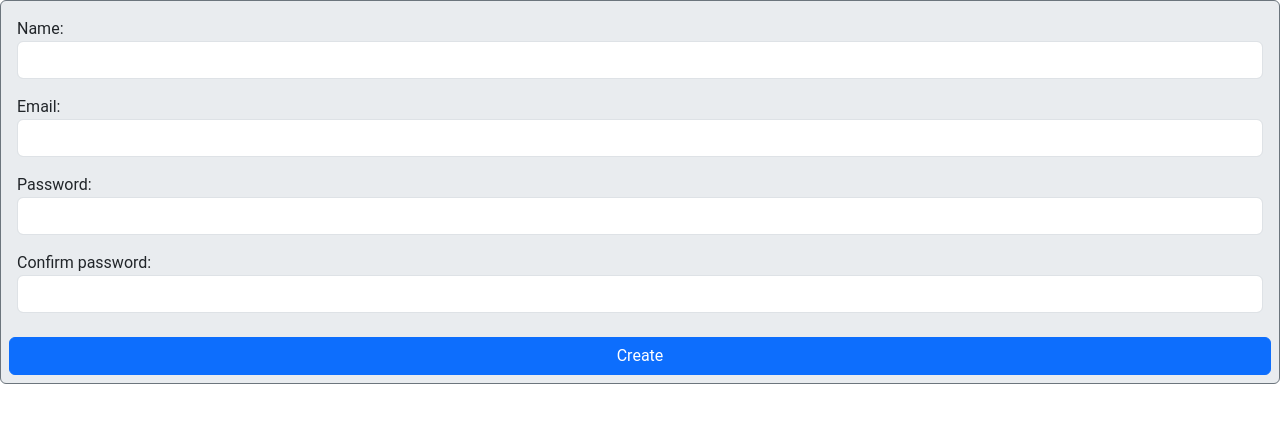
SignupForm › displays error message on password mismatch
Type "password123" into the password field labelled "Password:". click: (640, 216)
box: [17,197,1263,235]
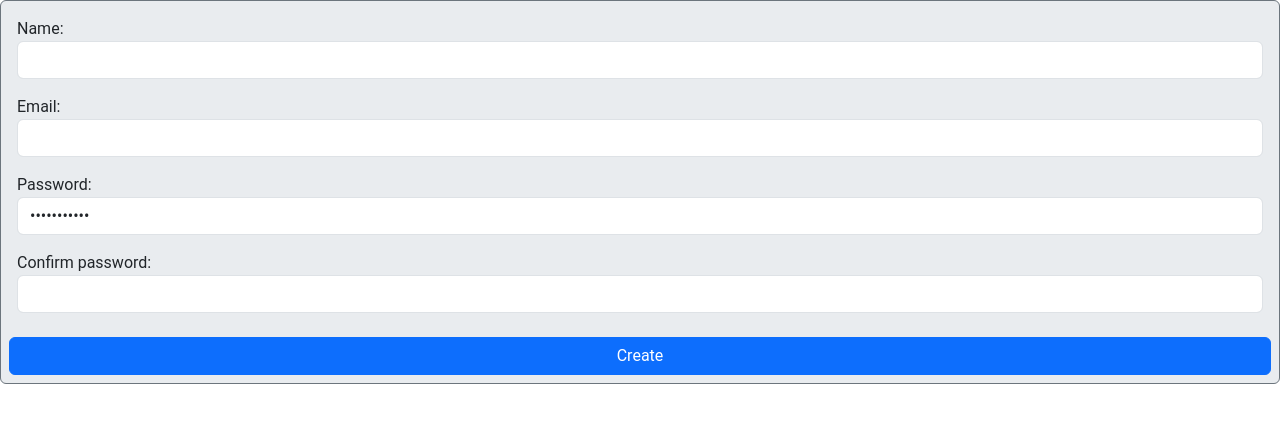
Type "password456" into the password field labelled "Confirm password:". click: (640, 294)
box: [17,275,1263,313]
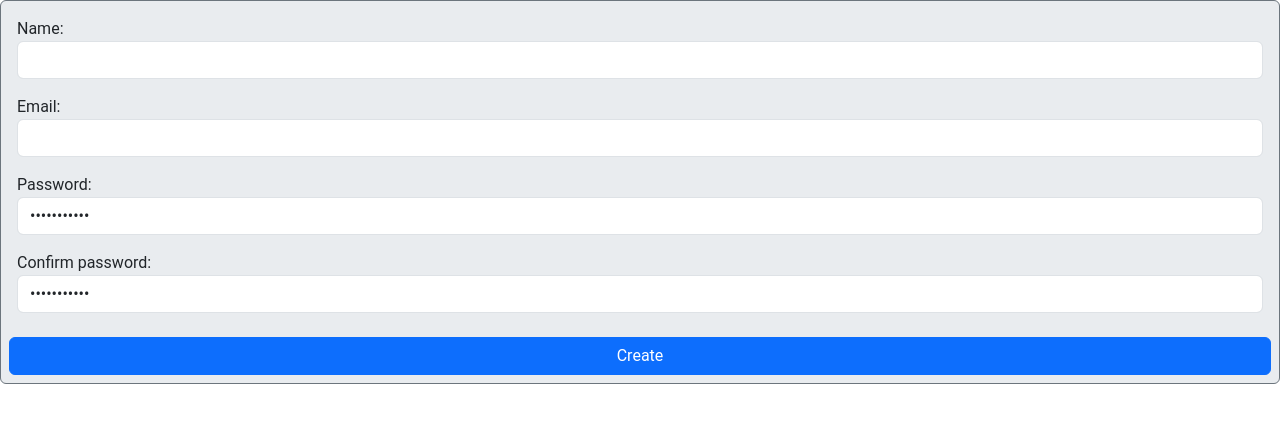
Click the button "Create". click: (640, 356)
box: [9,337,1271,375]
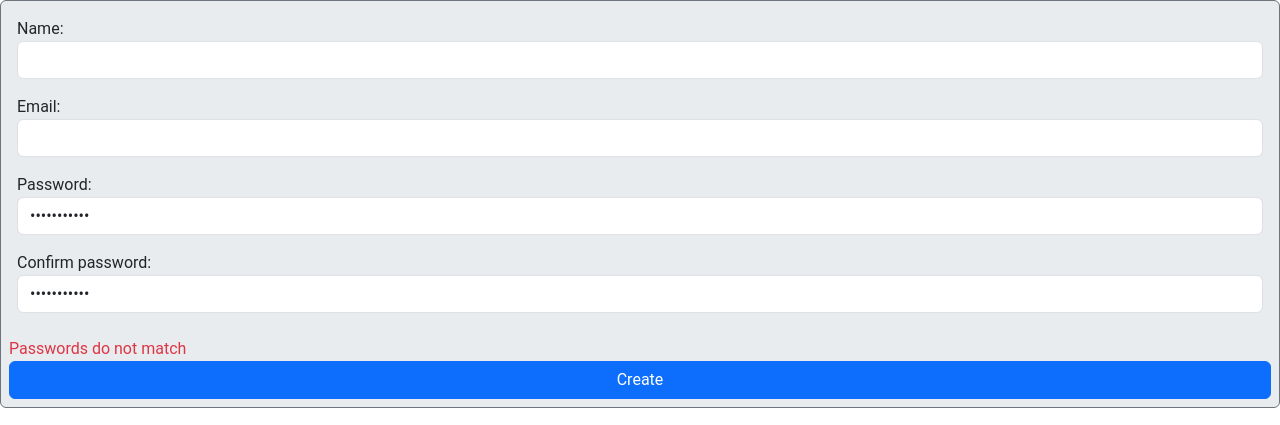
Check: the text "Passwords do not match" is shown, box [9,339,186,358]
